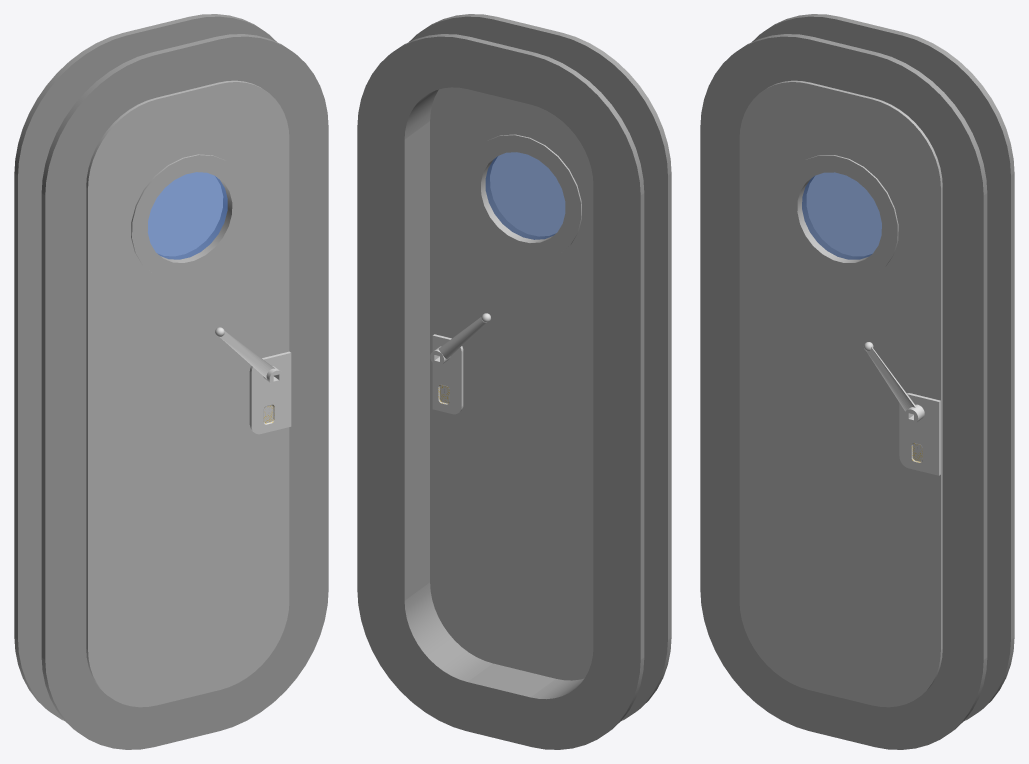
The model's file is Submarine_Door.fbx.
The picture shows the model from 3 angles, left to right: view 1: azimuth 30°, elevation 25°; view 2: azimuth 150°, elevation 25°; view 3: azimuth 330°, elevation 25°; orthographic projection.
Parts seen in each view (by area): view 1: Group_31_1, Group1, Group3, Group9; view 2: Group1, Group_31_1, Group2, Group6; view 3: Group_31_1, Group1, Group3, Group9.
Boxes of the visible parts, x1,y1,x2,y2 form: Group_31_1: [86, 80, 289, 707]; Group1: [14, 14, 328, 749]; Group3: [249, 351, 291, 434]; Group9: [220, 331, 274, 378]; Group1: [357, 14, 671, 749]; Group_31_1: [430, 87, 593, 680]; Group2: [432, 334, 463, 414]; Group6: [438, 317, 486, 358]; Group_31_1: [739, 80, 942, 707]; Group1: [700, 14, 1014, 749]; Group3: [899, 393, 940, 475]; Group9: [866, 347, 916, 411].
Size of the model in its own units: 0.9 by 2.1 by 0.2258.
